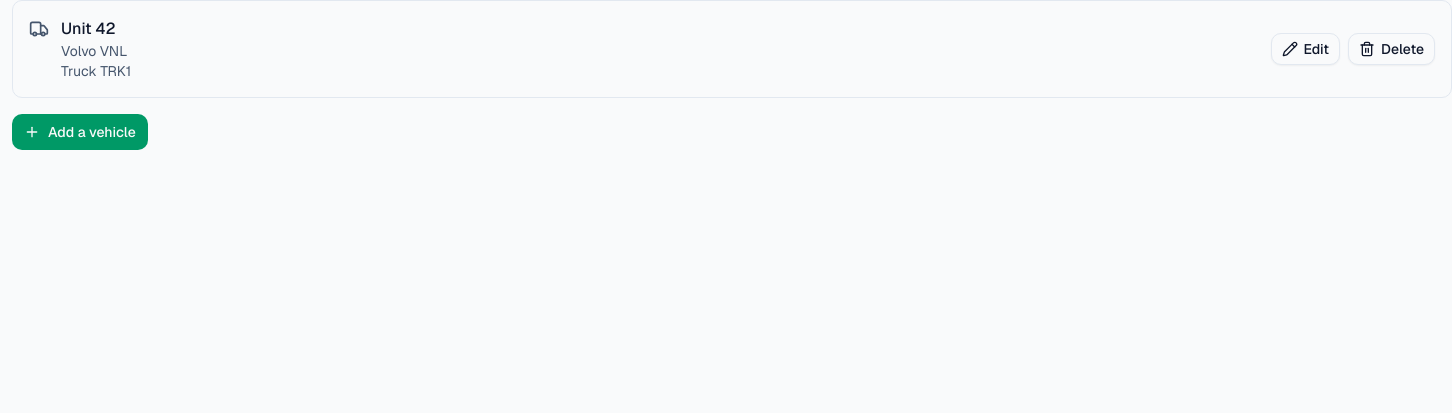
Test case: VehicleList › edits a vehicle
Later steps or results of the test are not shown.
Click the button with aria-label "Edit Unit 42" at point(1305, 49), box [1271, 33, 1340, 65]
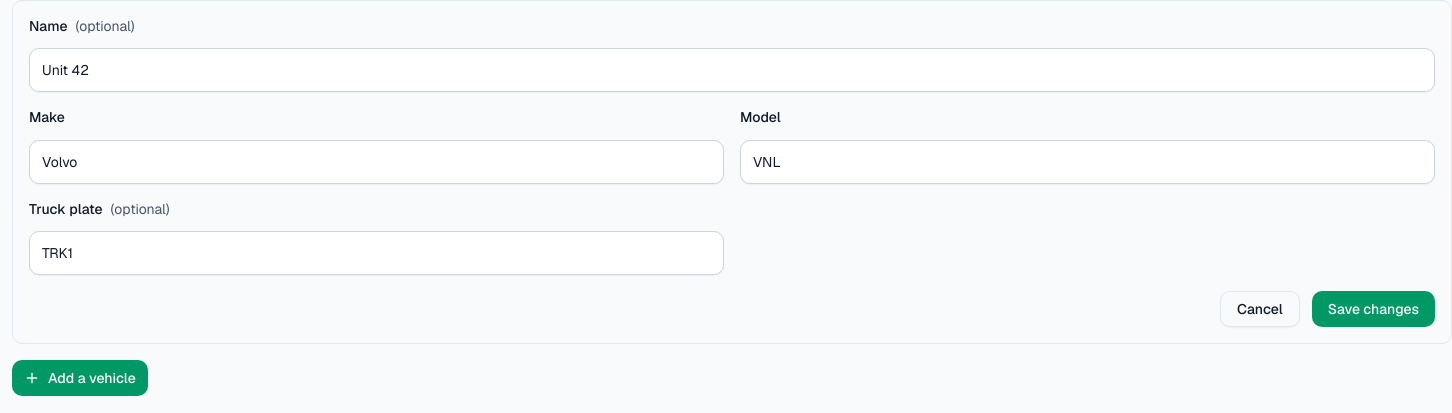
Expected: the field labelled "Name (optional)" holds "Unit 42", [29, 48, 1435, 92]
